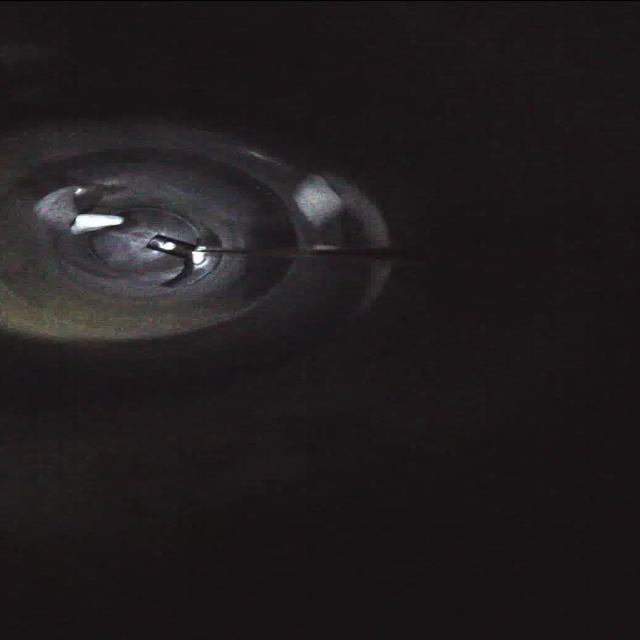impurity: (61, 202, 135, 242)
